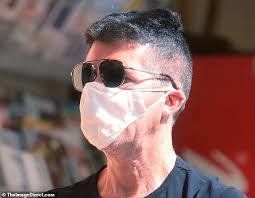mask: (79, 83, 147, 149)
